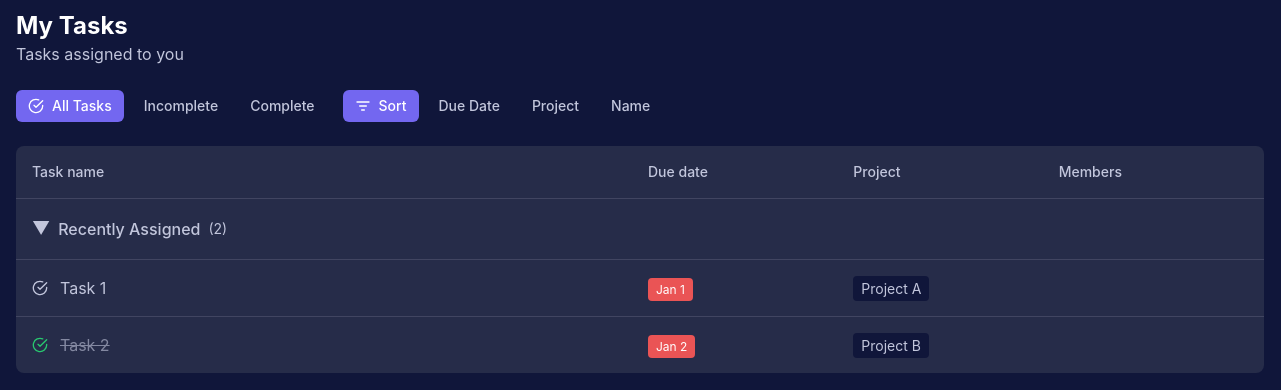
it: MyTasks › filters tasks by status
The width and height of the screenshot is (1281, 390).
Expected: the text "Task 1" is shown, [60,276,106,300]
// Filter Incomplete
Step 1. Click the button "Incomplete" → (181, 106), box [132,90,230,122]
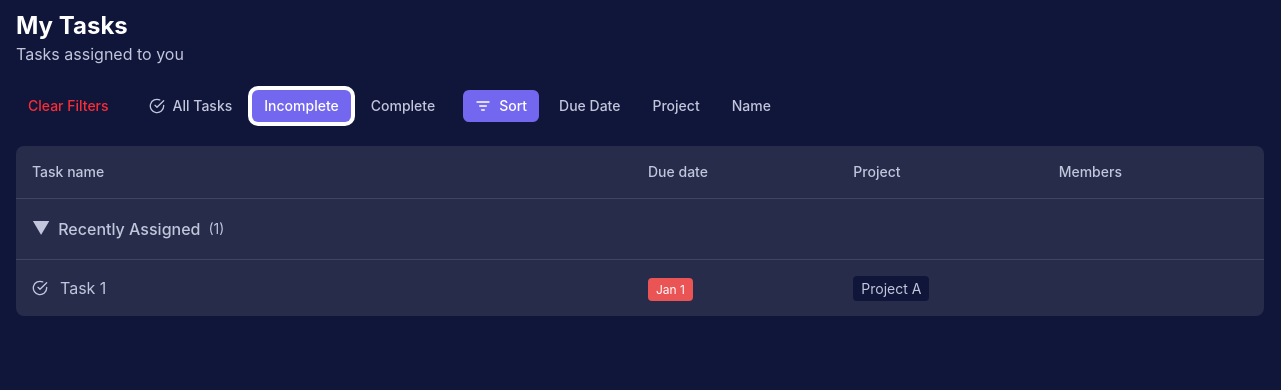
Expected: the text "Task 1" is shown, [60,276,106,300]
Expected: the text "Task 2" is gone
// Filter Complete
Step 2. Click the button "Complete" → (403, 106), box [359,90,447,122]
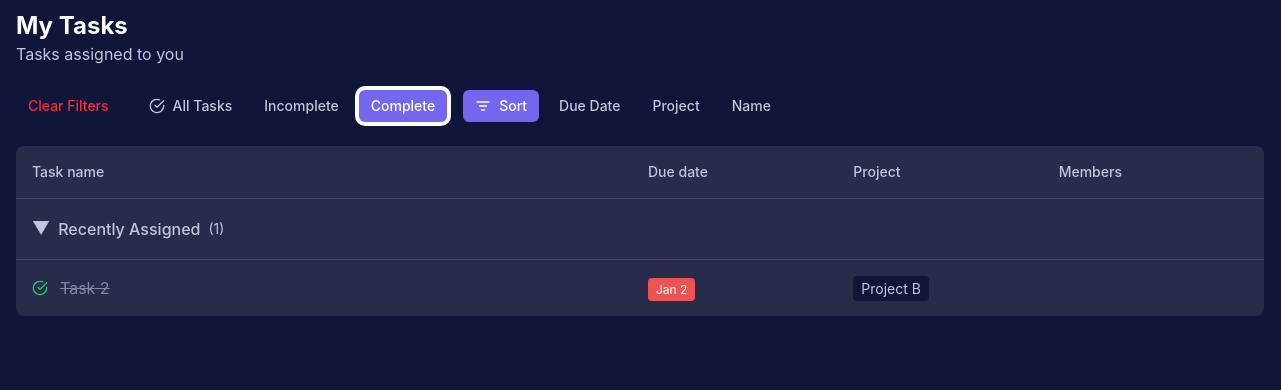
Expected: the text "Task 1" is gone
Expected: the text "Task 2" is shown, [60,276,110,300]
